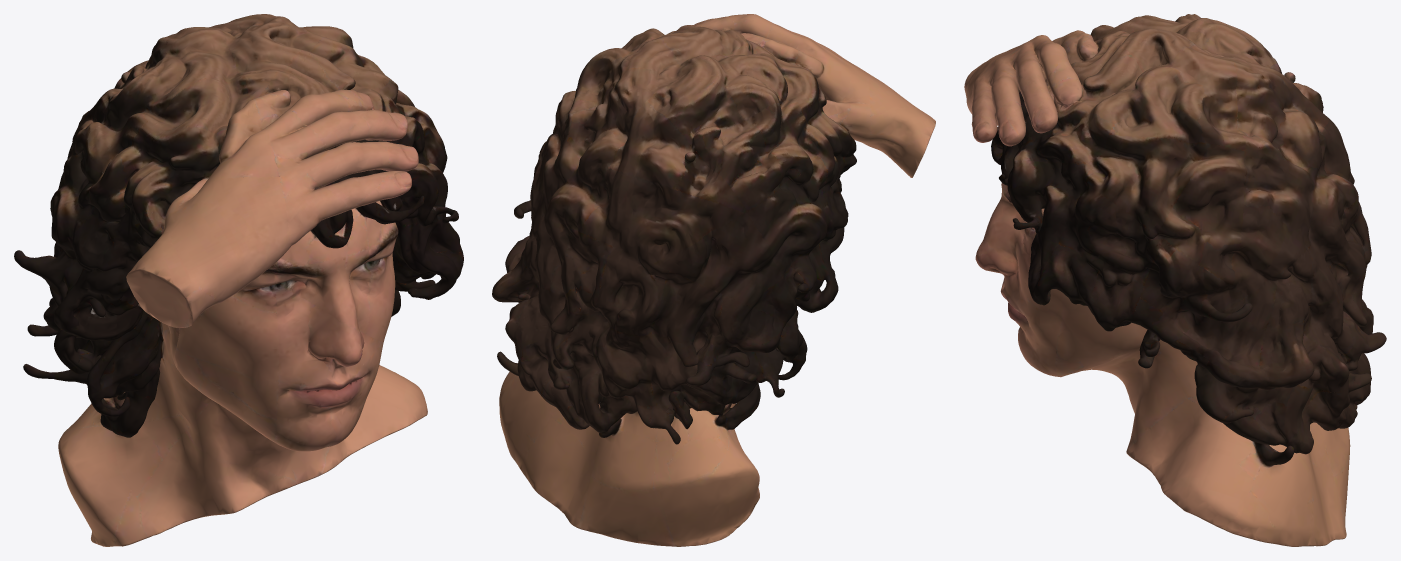
3 renders of one model, left to right at view 1: azimuth 30°, elevation 25°; view 2: azimuth 150°, elevation 25°; view 3: azimuth 270°, elevation 25°, orthographic. The views are drawn at different scales.
Size of the model in its own units: 1.47 by 1.9 by 1.48.
1 material, 1 textured.
